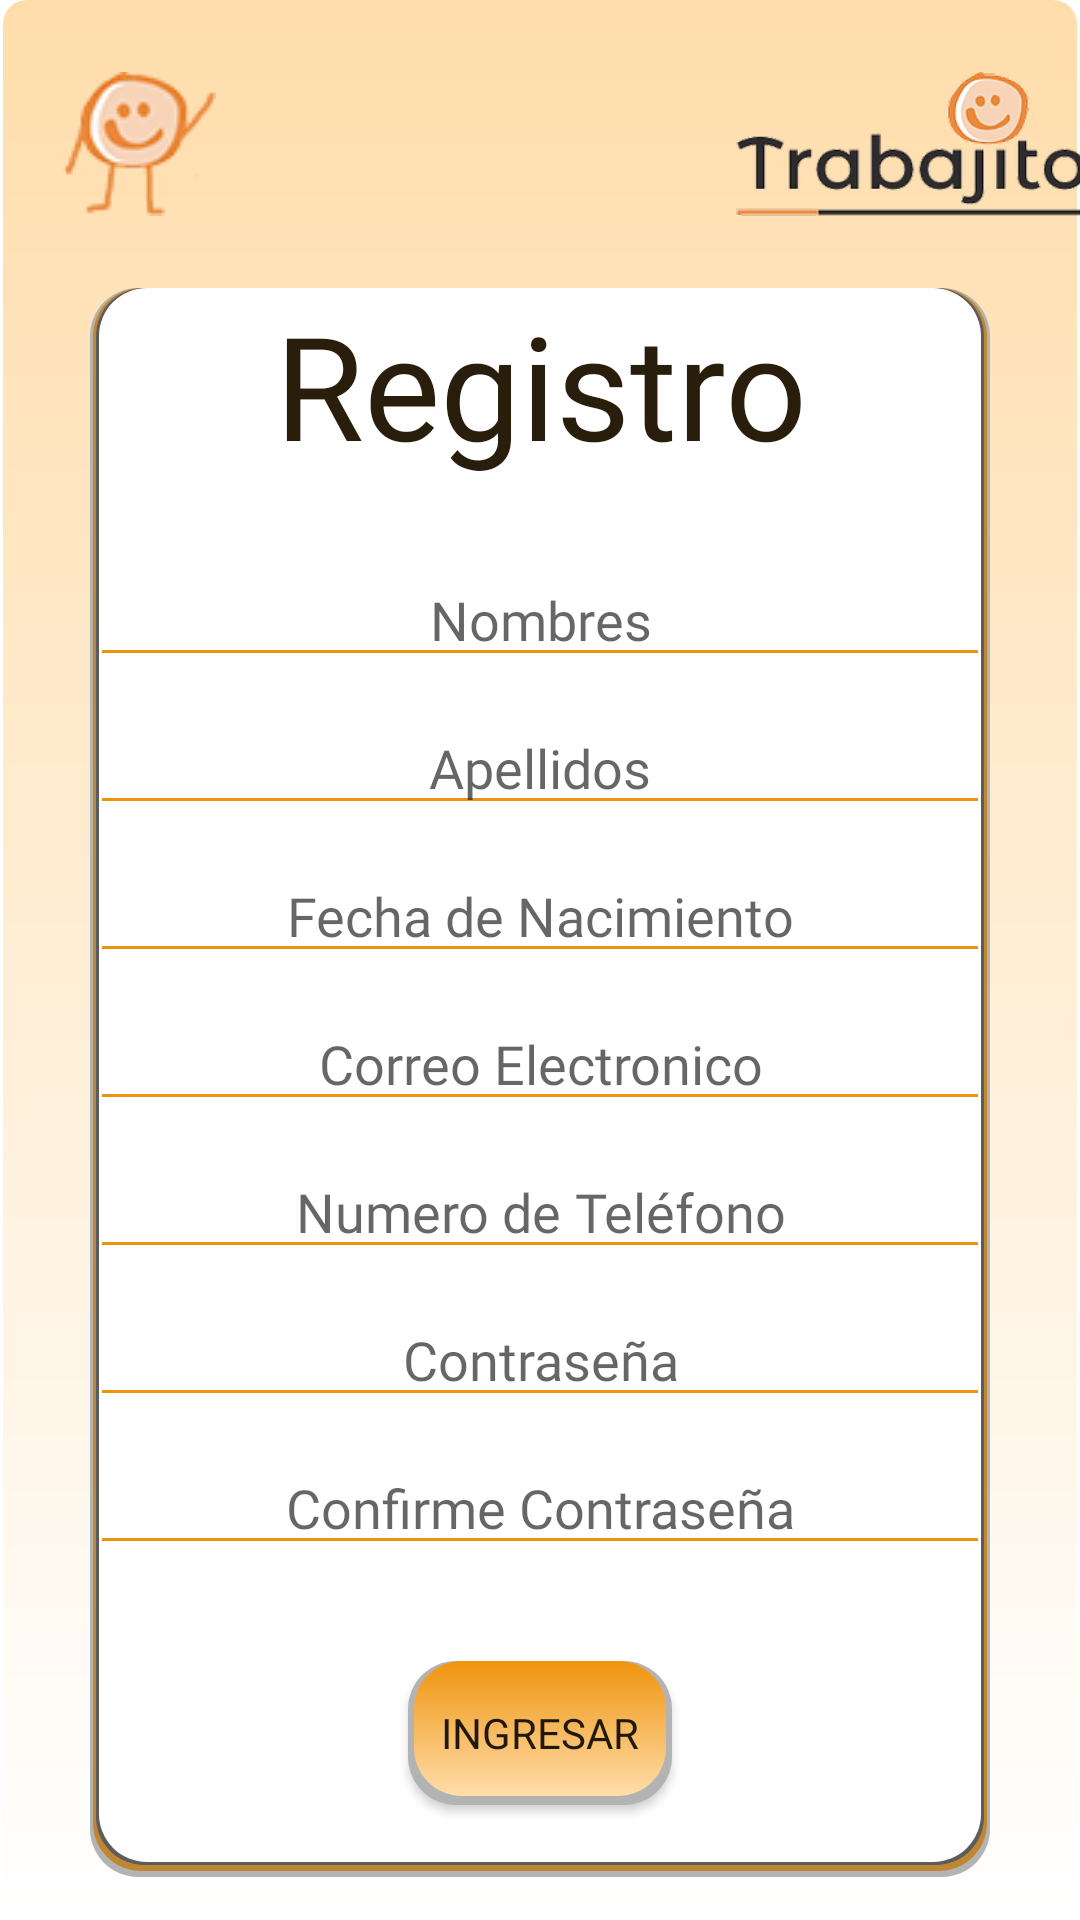

Icons on this 1080x1920 Android screen, each with its box as (x1, y1, x2, y2):
logito: (65, 72, 216, 216)
